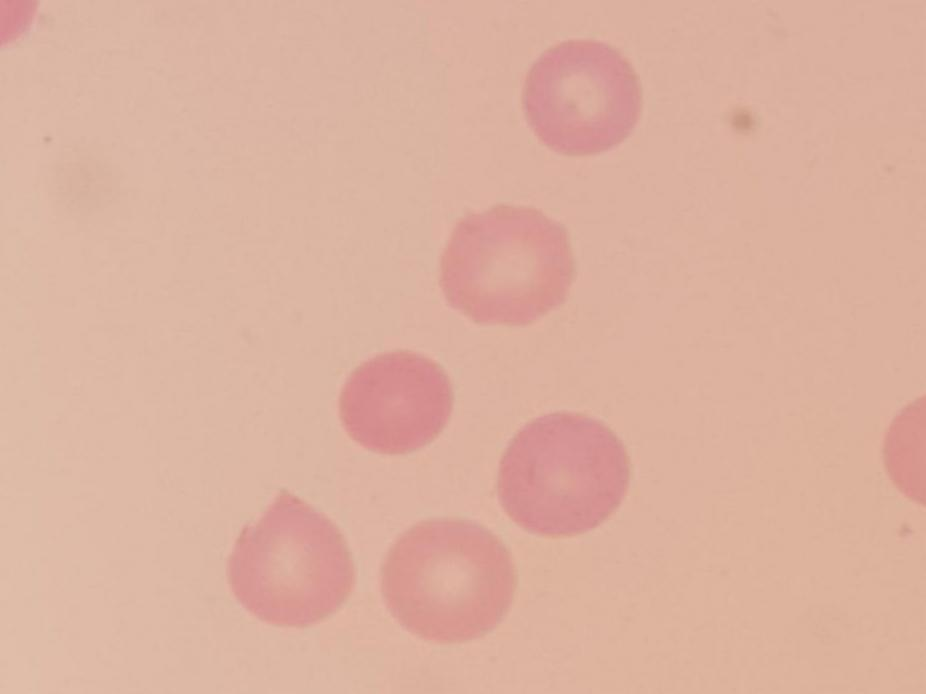Uninfected: (440, 196, 576, 330), (377, 519, 520, 644), (230, 486, 354, 629), (498, 411, 630, 544), (527, 39, 642, 156), (337, 346, 452, 455)
